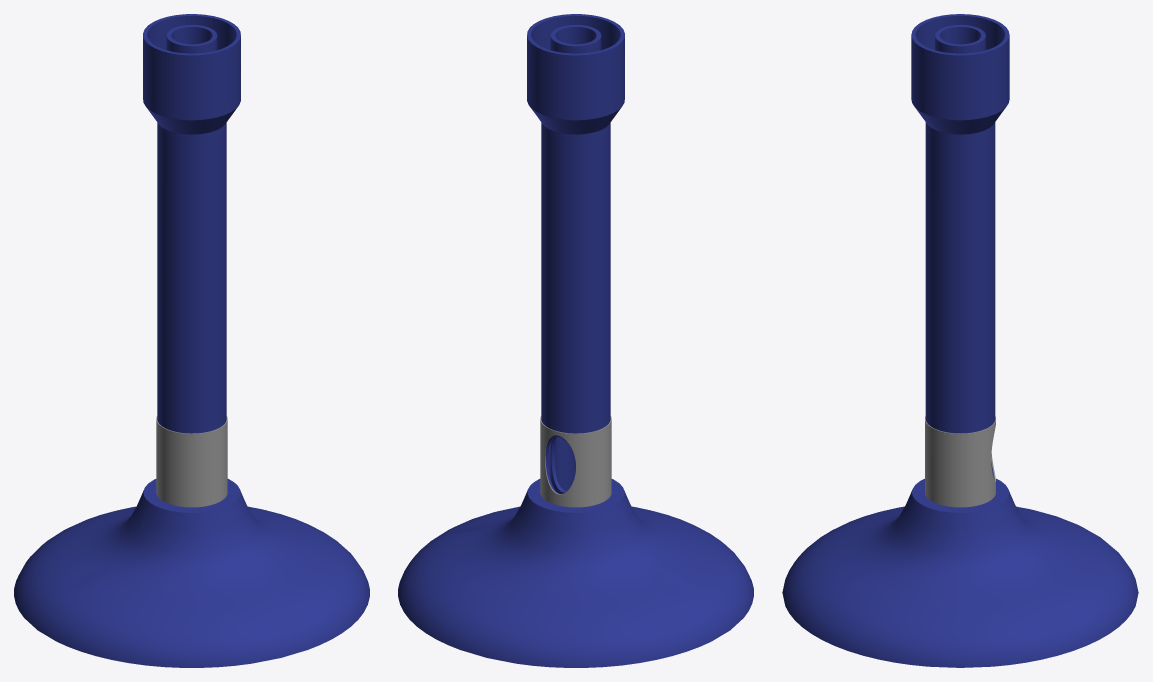
File: Burner .fbx
The picture shows the model from 3 angles, left to right: view 1: azimuth 30°, elevation 25°; view 2: azimuth 150°, elevation 25°; view 3: azimuth 270°, elevation 25°; orthographic projection.
Parts seen in each view (by area): view 1: Body1 (×2); view 2: Body1 (×2); view 3: Body1 (×2).
Boxes of the visible parts, left/top/right/bottom form: Body1 (×2): left=14, top=14, right=369, bottom=667; Body1 (×2): left=398, top=14, right=753, bottom=667; Body1 (×2): left=782, top=14, right=1138, bottom=667.
Size of the model in its own units: 110 by 190 by 110.
